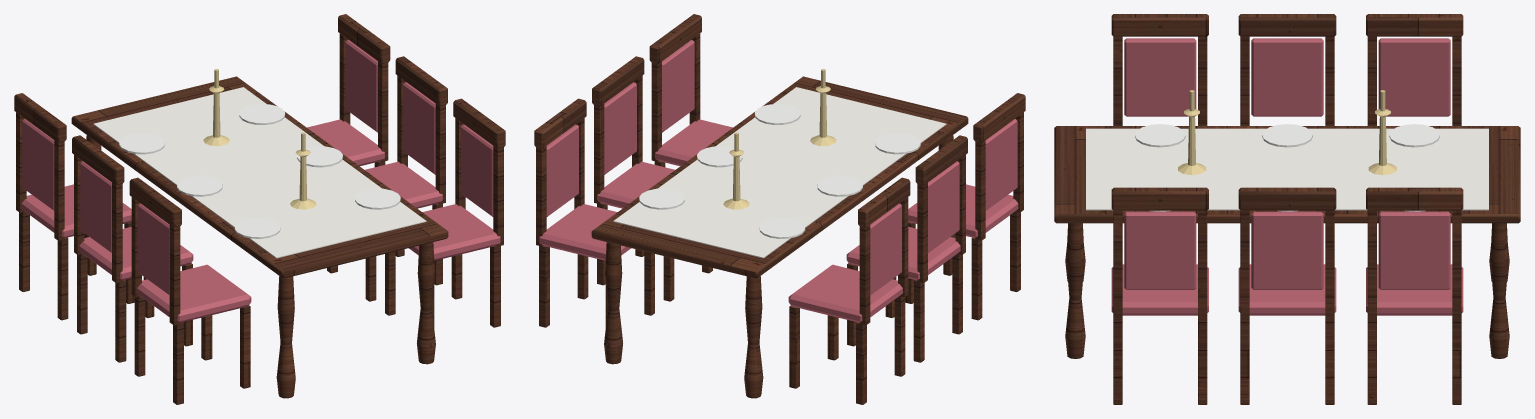
Rendered from dining_set.glb.
3 renders of one model, left to right at view 1: azimuth 30°, elevation 25°; view 2: azimuth 150°, elevation 25°; view 3: azimuth 270°, elevation 25°, orthographic. The views are drawn at different scales.
Parts seen in each view (by area): view 1: dining_set_dkwood, dining_set_velvet, dining_set_linen, dining_set_porcelain, dining_set_brass; view 2: dining_set_dkwood, dining_set_velvet, dining_set_linen, dining_set_porcelain, dining_set_brass; view 3: dining_set_dkwood, dining_set_velvet, dining_set_linen, dining_set_porcelain, dining_set_brass.
Boxes of the visible parts, x1=… form: dining_set_dkwood: x1=14, y1=14, x2=505, y2=404; dining_set_velvet: x1=21, y1=40, x2=500, y2=322; dining_set_linen: x1=93, y1=87, x2=426, y2=258; dining_set_porcelain: x1=119, y1=104, x2=400, y2=238; dining_set_brass: x1=203, y1=69, x2=316, y2=209; dining_set_dkwood: x1=534, y1=14, x2=1025, y2=404; dining_set_velvet: x1=539, y1=40, x2=1018, y2=322; dining_set_linen: x1=613, y1=87, x2=946, y2=258; dining_set_porcelain: x1=639, y1=104, x2=920, y2=238; dining_set_brass: x1=723, y1=69, x2=836, y2=209; dining_set_dkwood: x1=1054, y1=14, x2=1520, y2=404; dining_set_velvet: x1=1111, y1=38, x2=1463, y2=315; dining_set_linen: x1=1086, y1=128, x2=1488, y2=210; dining_set_porcelain: x1=1135, y1=124, x2=1439, y2=211; dining_set_brass: x1=1178, y1=90, x2=1396, y2=175.
Bounding box in the file's own units: 2 × 1.18 × 2.2.
5 materials, 1 textured.
